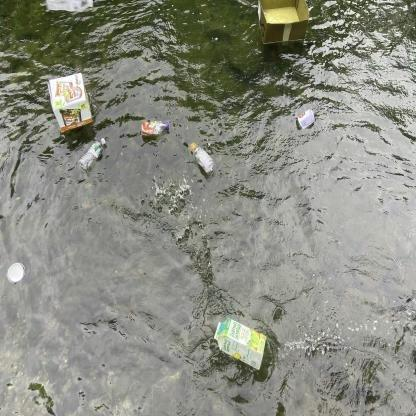Plastic: (75, 135, 110, 173), (186, 140, 218, 178), (136, 113, 172, 144), (44, 0, 99, 18)
Trash: (292, 105, 320, 139), (6, 260, 29, 288)
